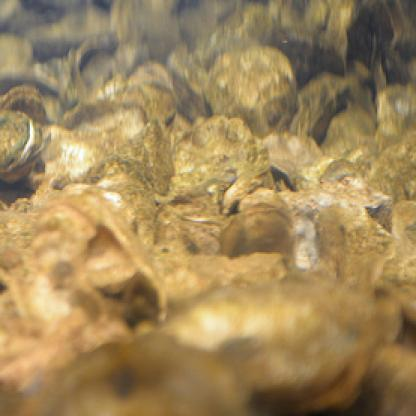Oyster- Indeterminate: (155, 273, 377, 416), (0, 108, 47, 187), (0, 86, 53, 123)
Oyster-Closed: (7, 334, 253, 416), (209, 45, 298, 134), (173, 117, 261, 199), (293, 67, 351, 142), (219, 212, 298, 255), (140, 120, 173, 192)
